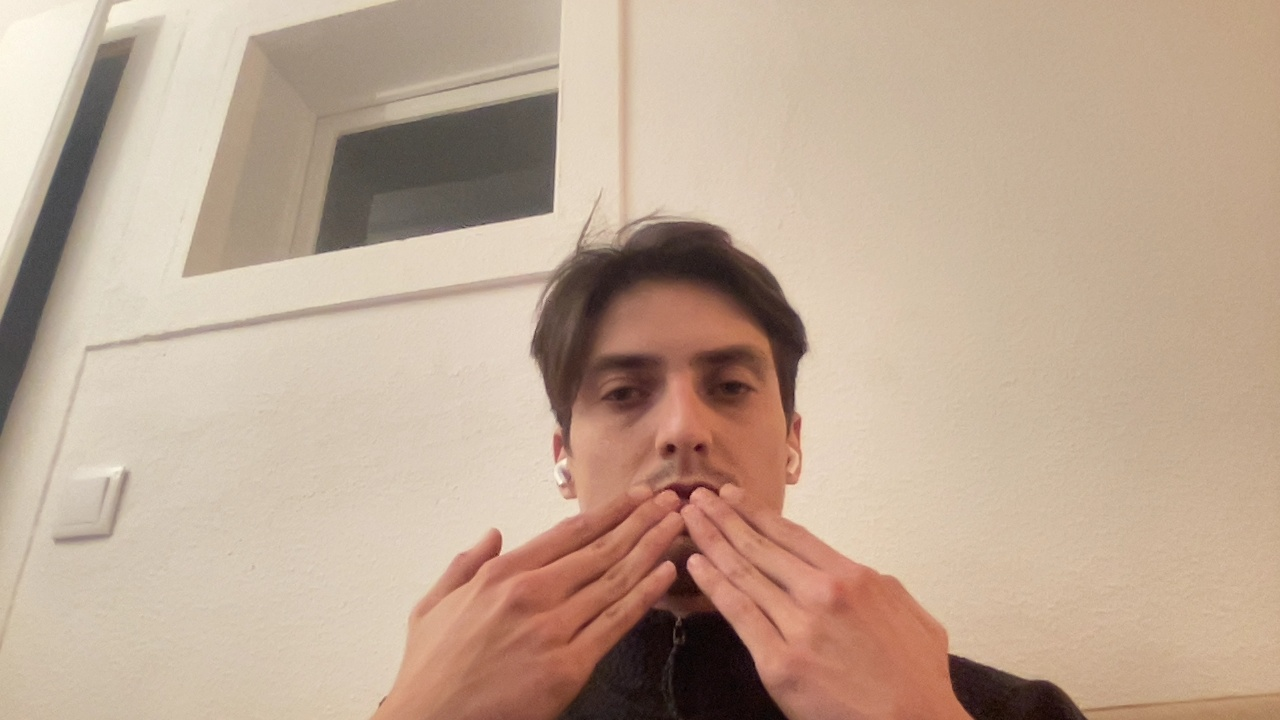Thank you: (331, 470, 679, 715), (686, 485, 1008, 720)
